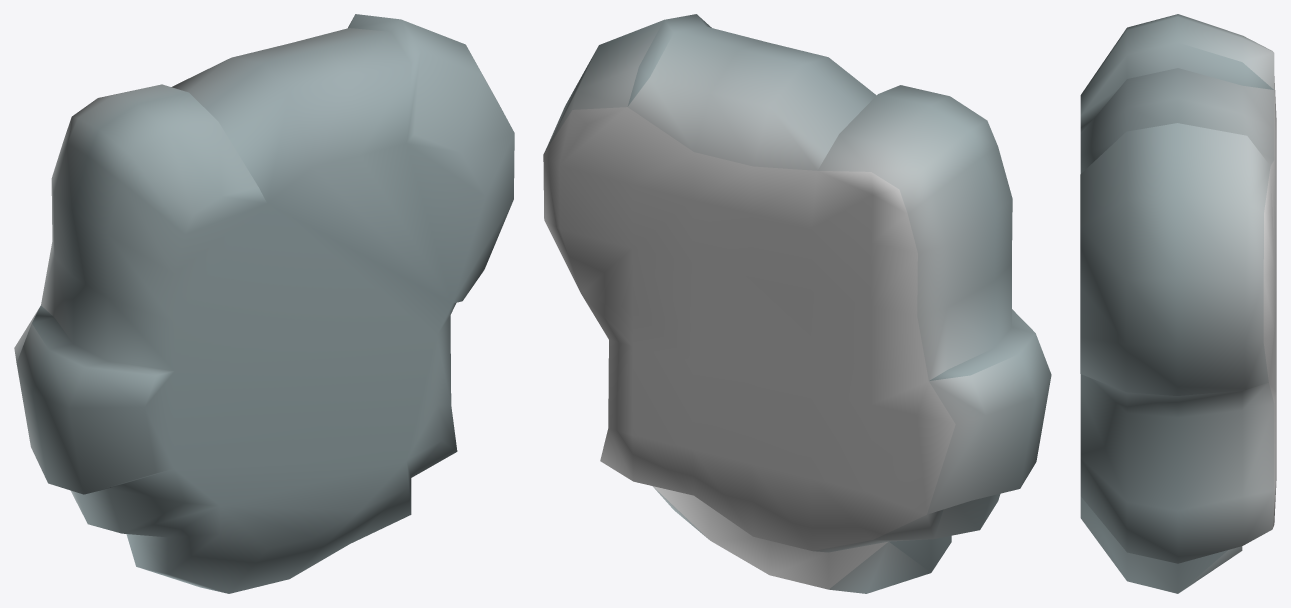
File: IceFloe.001.glb
3 renders of one model, left to right at view 1: azimuth 30°, elevation 25°; view 2: azimuth 150°, elevation 25°; view 3: azimuth 270°, elevation 25°, orthographic. The views are drawn at different scales.
Parts seen in each view (by area): view 1: IceFloe.001; view 2: IceFloe.001; view 3: IceFloe.001.
Part boxes in pixels (box(x1,y1,x2,y2)): IceFloe.001: box(14, 14, 514, 593); IceFloe.001: box(543, 14, 1051, 593); IceFloe.001: box(1080, 14, 1276, 593).
Bounding box in the file's own units: 427 × 455 × 158.
